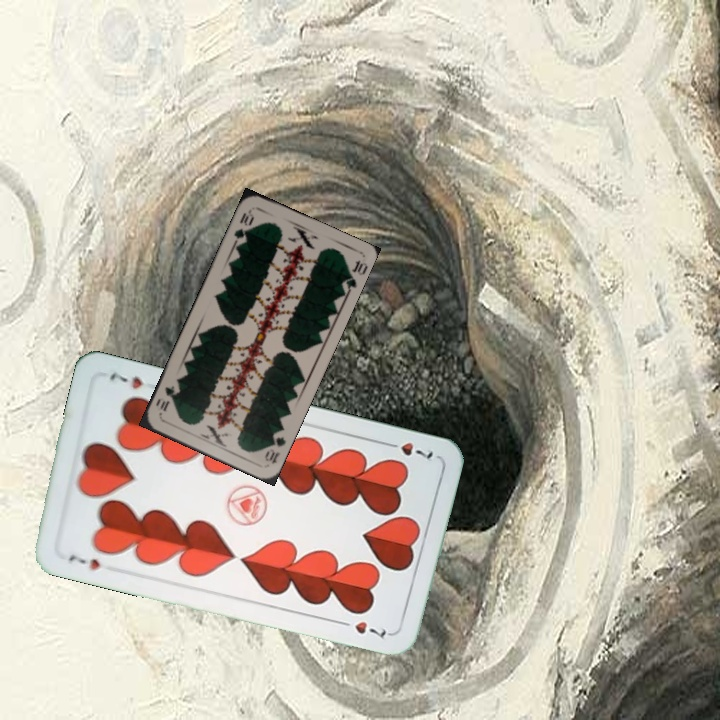G10: (230, 206, 257, 244), (260, 432, 289, 466)
H7: (380, 438, 436, 462), (64, 550, 103, 573)
